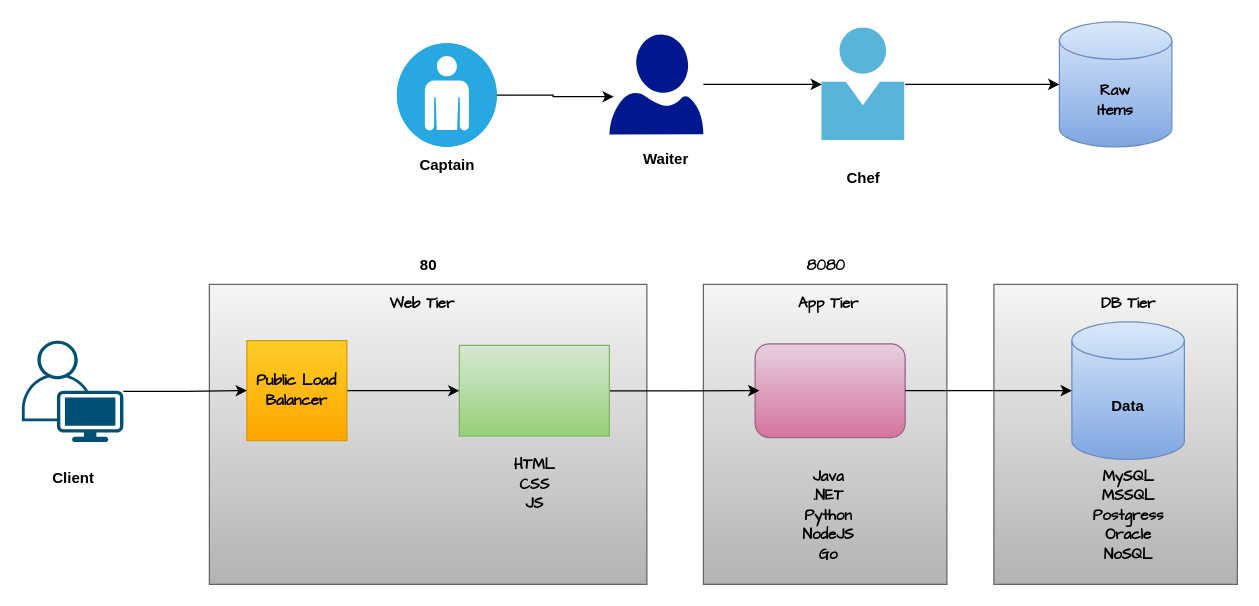
Some shapes in this 1259 by 606 pixel diagram are drawn without their labels. The shapes that lost their labels are listed below. From the top down, each one's centre as x and y in pixels, then its label:
At (x=533, y=390): "Web Server".
At (x=829, y=390): "Applications".
